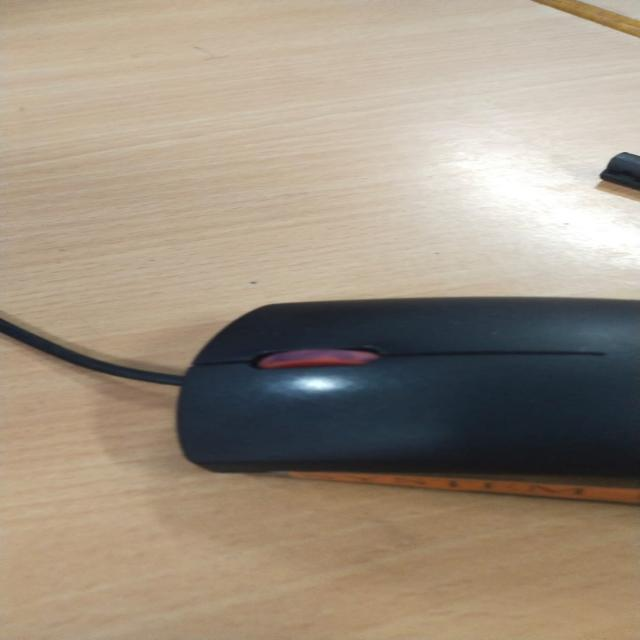Mouse: (178, 220, 640, 602)
